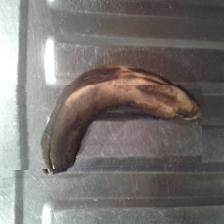Banana Rotten: (5, 86, 203, 171)
